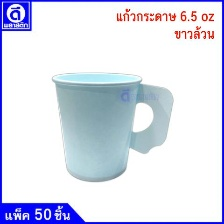paper_cup: (48, 65, 177, 186)
